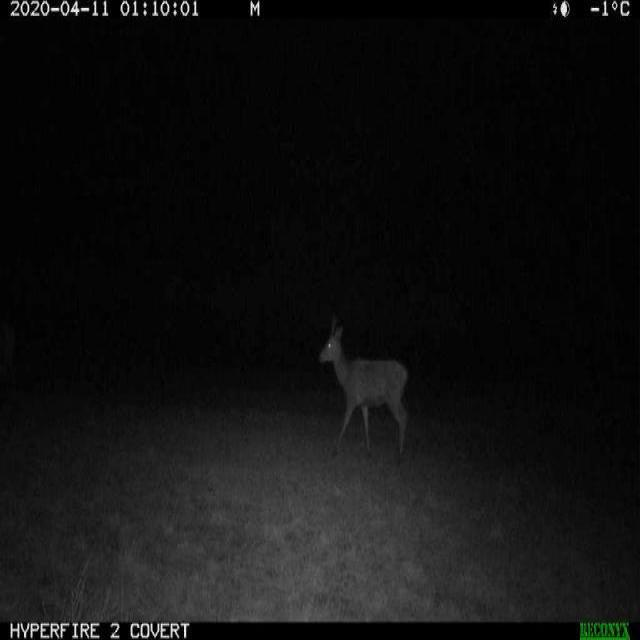deer: (308, 306, 417, 473)
